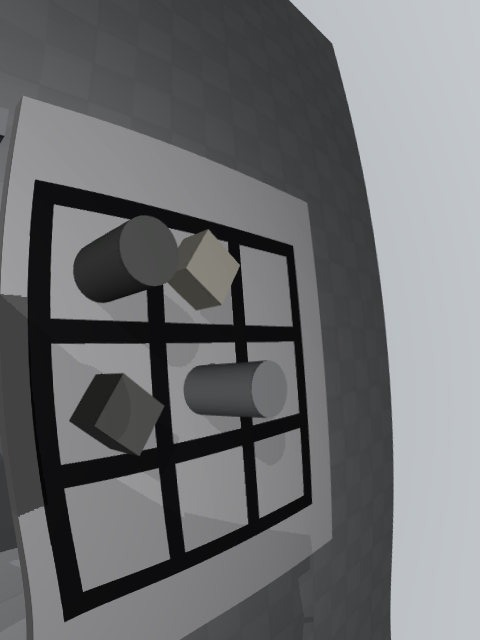can: (184, 360, 287, 418)
cube: (69, 373, 165, 456)
cylinder: (73, 216, 179, 303)
foam: (167, 229, 240, 311)
